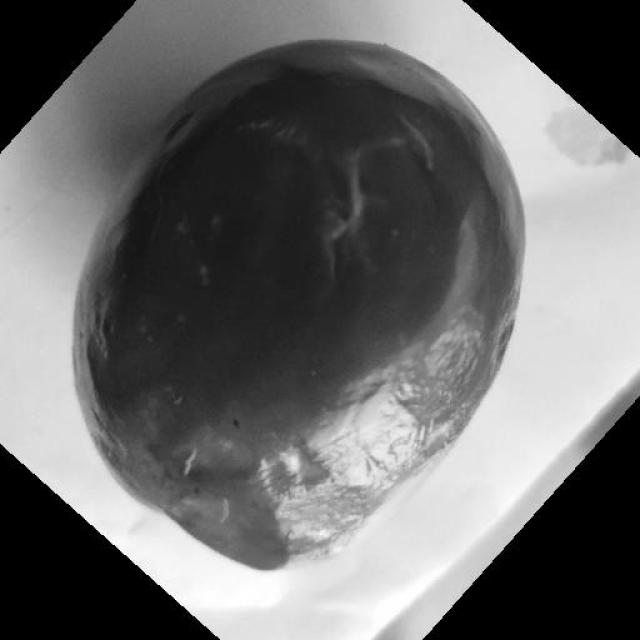Stale_tomato: (80, 44, 520, 563)
